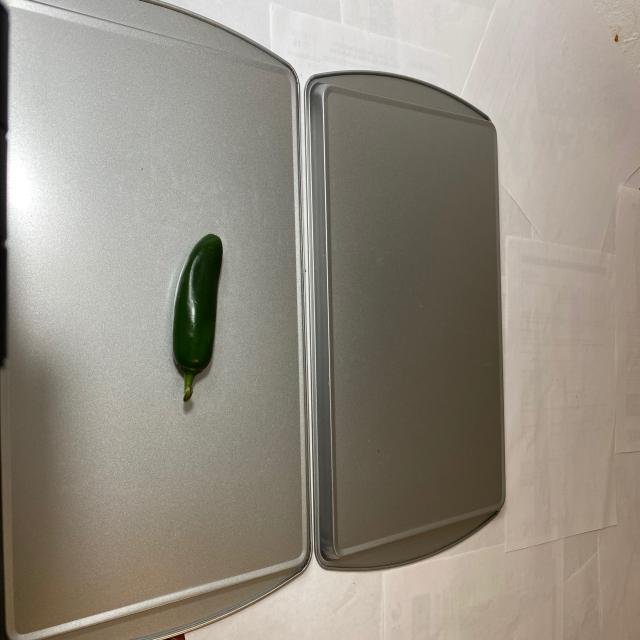chilli: (168, 221, 234, 426)
